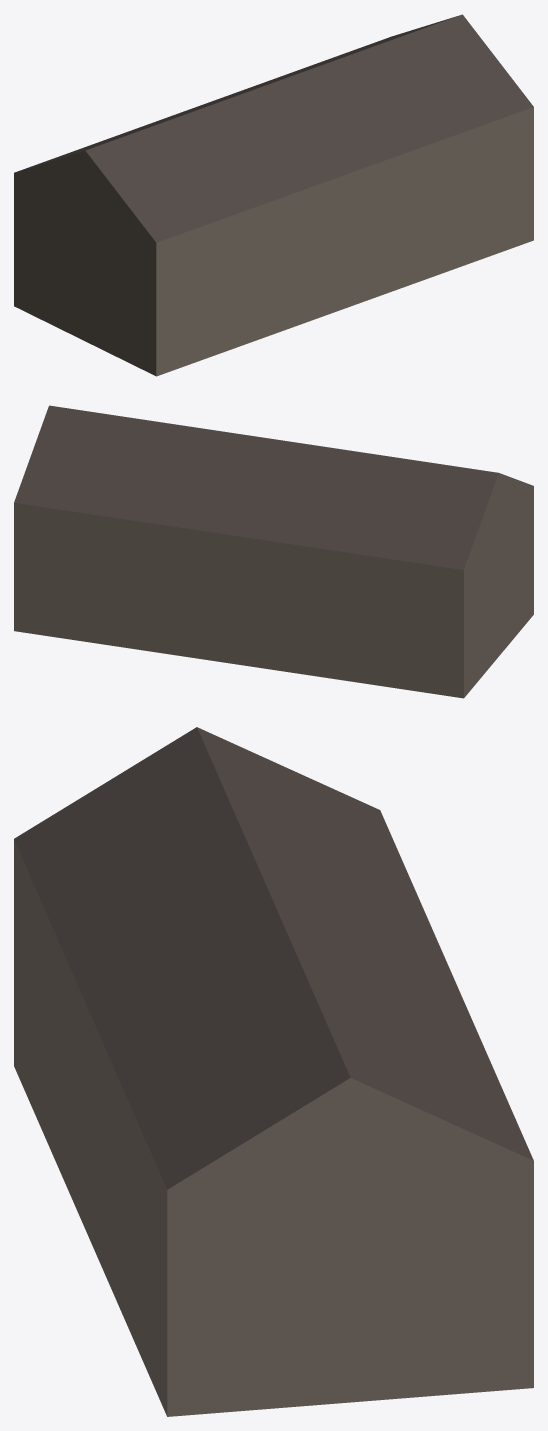
The picture shows the model from 3 angles, top to bottom: view 1: azimuth 30°, elevation 25°; view 2: azimuth 150°, elevation 25°; view 3: azimuth 270°, elevation 25°; orthographic projection. The views are drawn at different scales.
Parts seen in each view (by area): view 1: HP-w389701938; view 2: HP-w389701938; view 3: HP-w389701938.
Part boxes in pixels (x1=…): HP-w389701938: x1=14, y1=14, x2=533, y2=376; HP-w389701938: x1=14, y1=405, x2=533, y2=698; HP-w389701938: x1=14, y1=727, x2=533, y2=1416.
Bounding box in the file's own units: 21.52 × 8.58 × 12.45.
